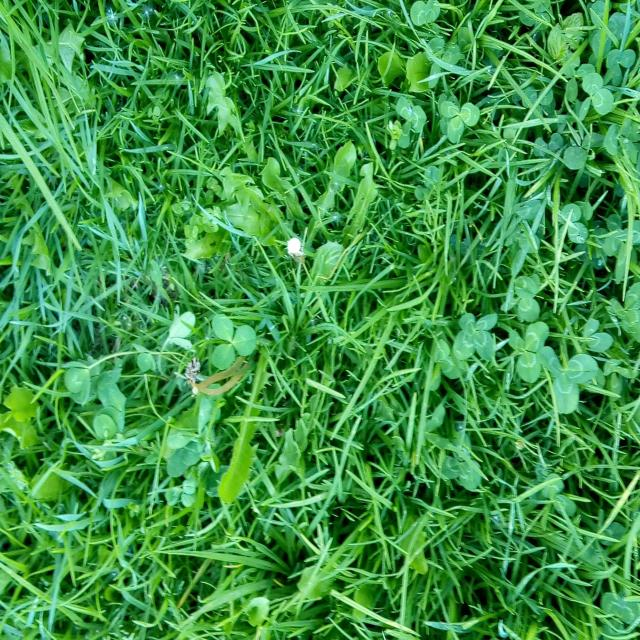Four Leaf Clover: (452, 311, 498, 361)
